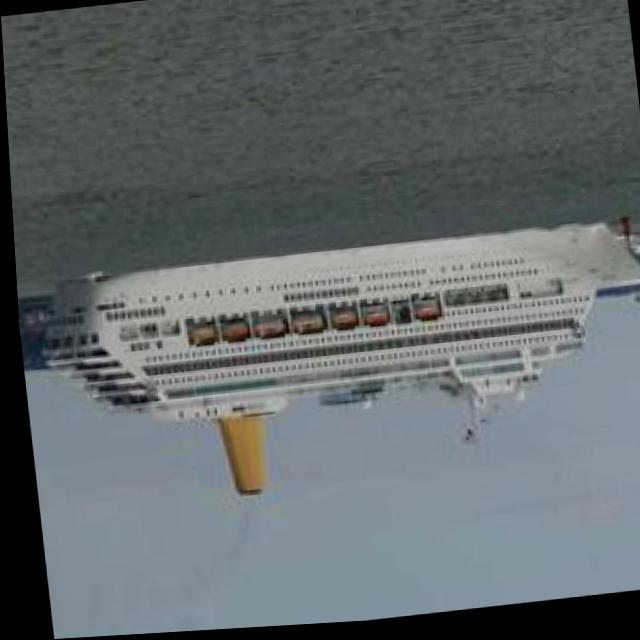ship2: (37, 228, 640, 498)
